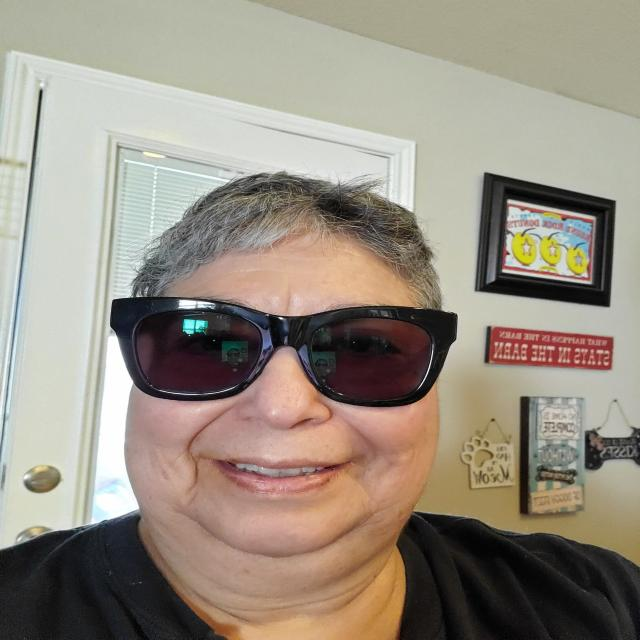2_gafas: (109, 296, 458, 408)
